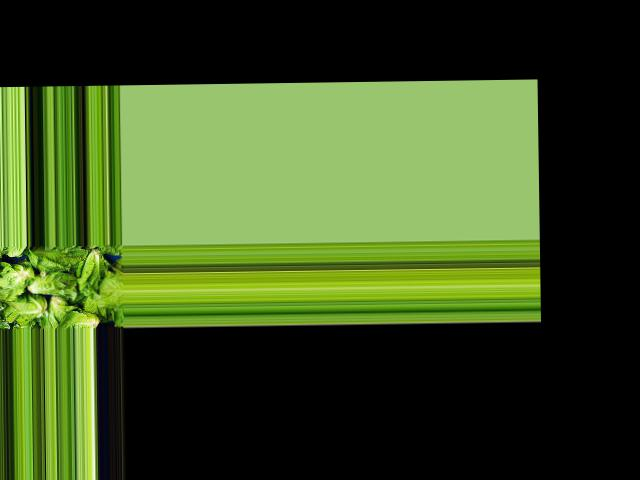lettuce: (56, 308, 106, 328)
